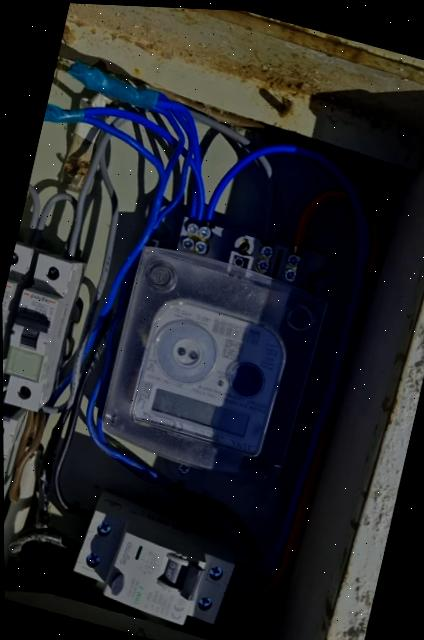electric-meter-detection: (101, 246, 326, 476)
